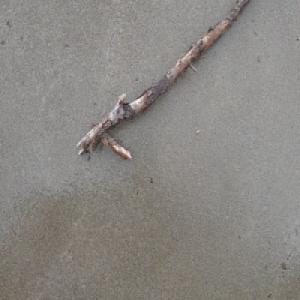Wood: (76, 0, 250, 162)
